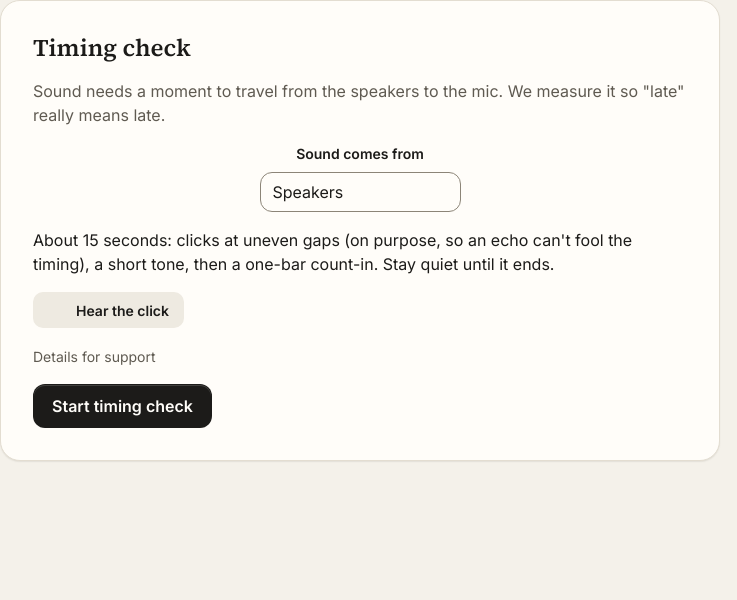
Test case: CalibrationCard › loopback failure leads with the count and why the alternative shows; Play along runs play-along
Click the button "Start timing check": (122, 406) [33,384,212,428]
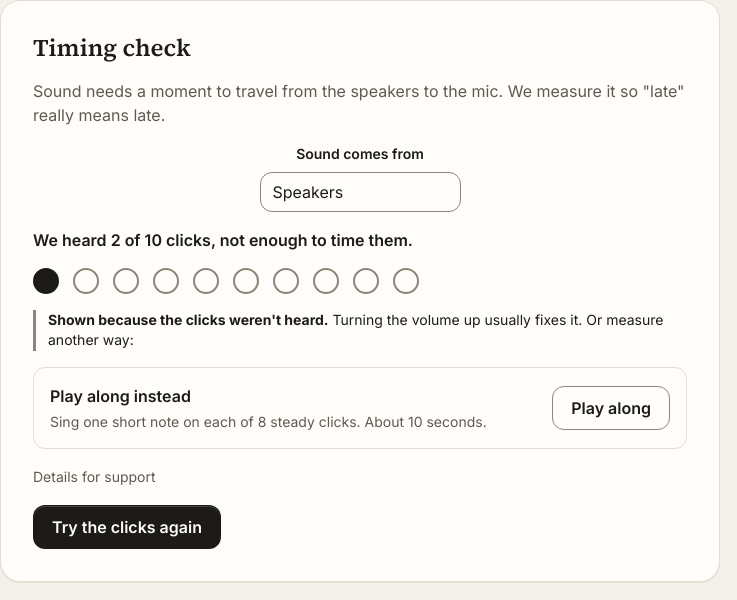
Expected: the message with test id "cal-fail" reads "We heard 2 of 10 clicks, not enough to time them.", [33,230,413,250]
Expected: the text "Shown because the clicks weren't heard." is shown, [48,311,328,328]
Click the button "Play along": (611, 408) [552,386,670,430]
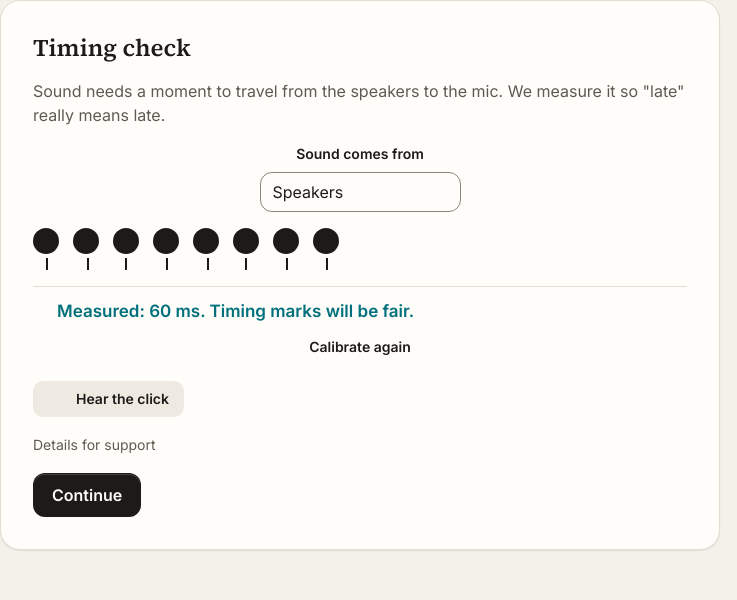
Expected: the element with test id "cal-result" shows "Measured: 60 ms.", [57,301,414,321]
